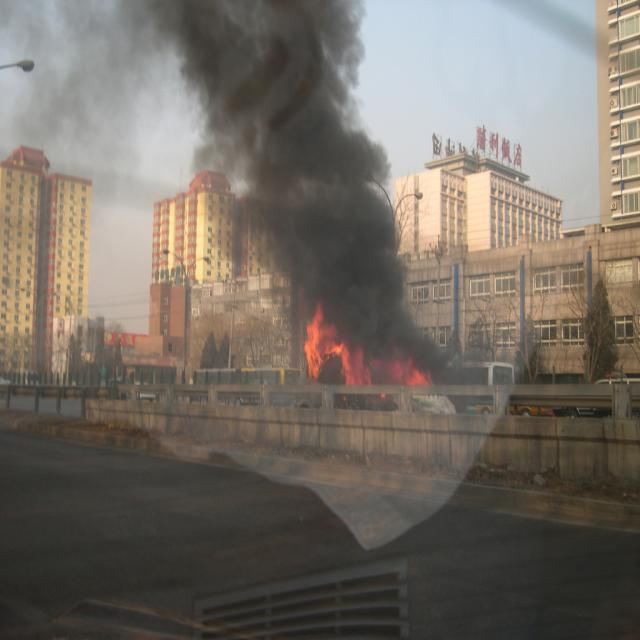Fire: (294, 306, 348, 382)
Smoke: (162, 0, 446, 398)
